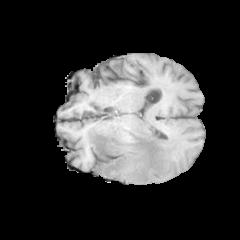glioma: (86, 124, 176, 182)
